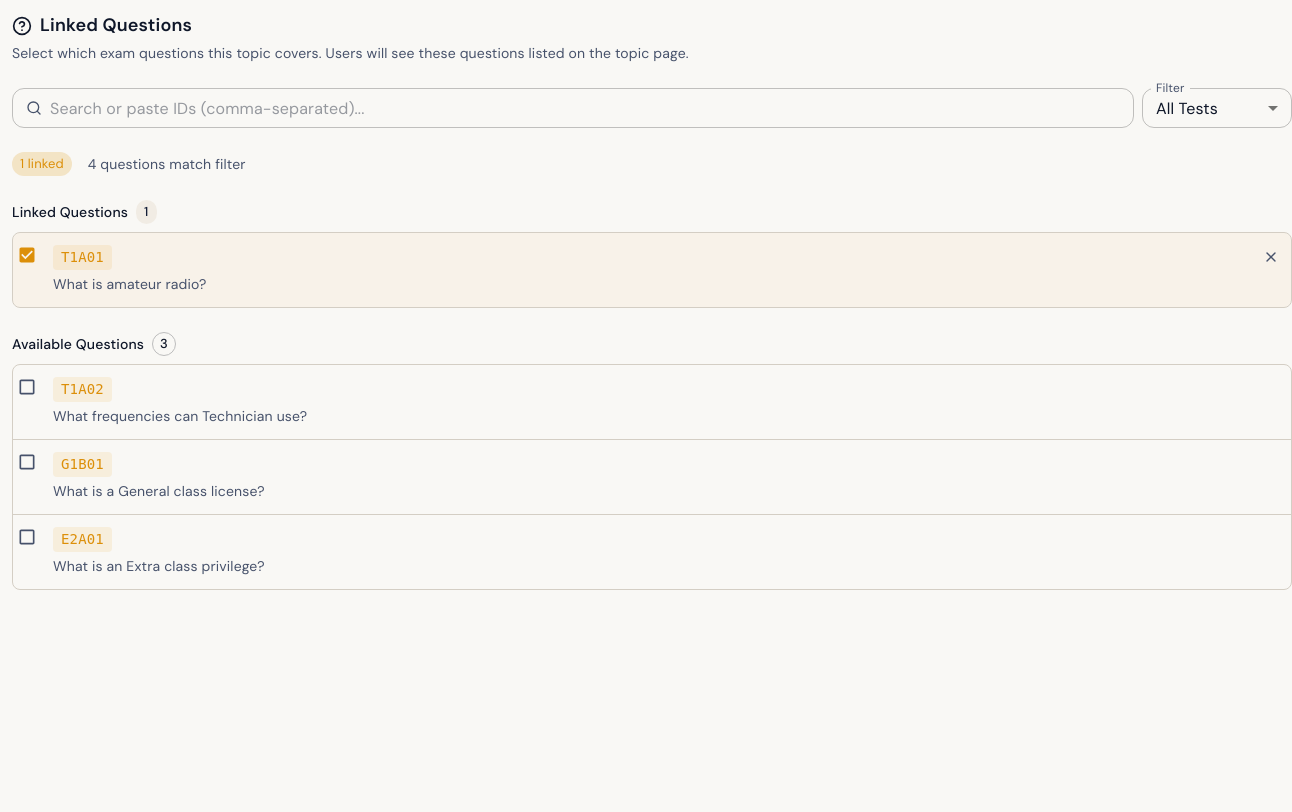
it: TopicQuestionManager › Test Type Filter › should filter to Extra questions only
Expected: the text "E2A01" is shown, [53,527,112,552]
MUI's Select opens on mousedown, which userEvent raises and fireEvent.click does not.
Click the dropdown named "filter": (1187, 108) [1156,98,1218,118]
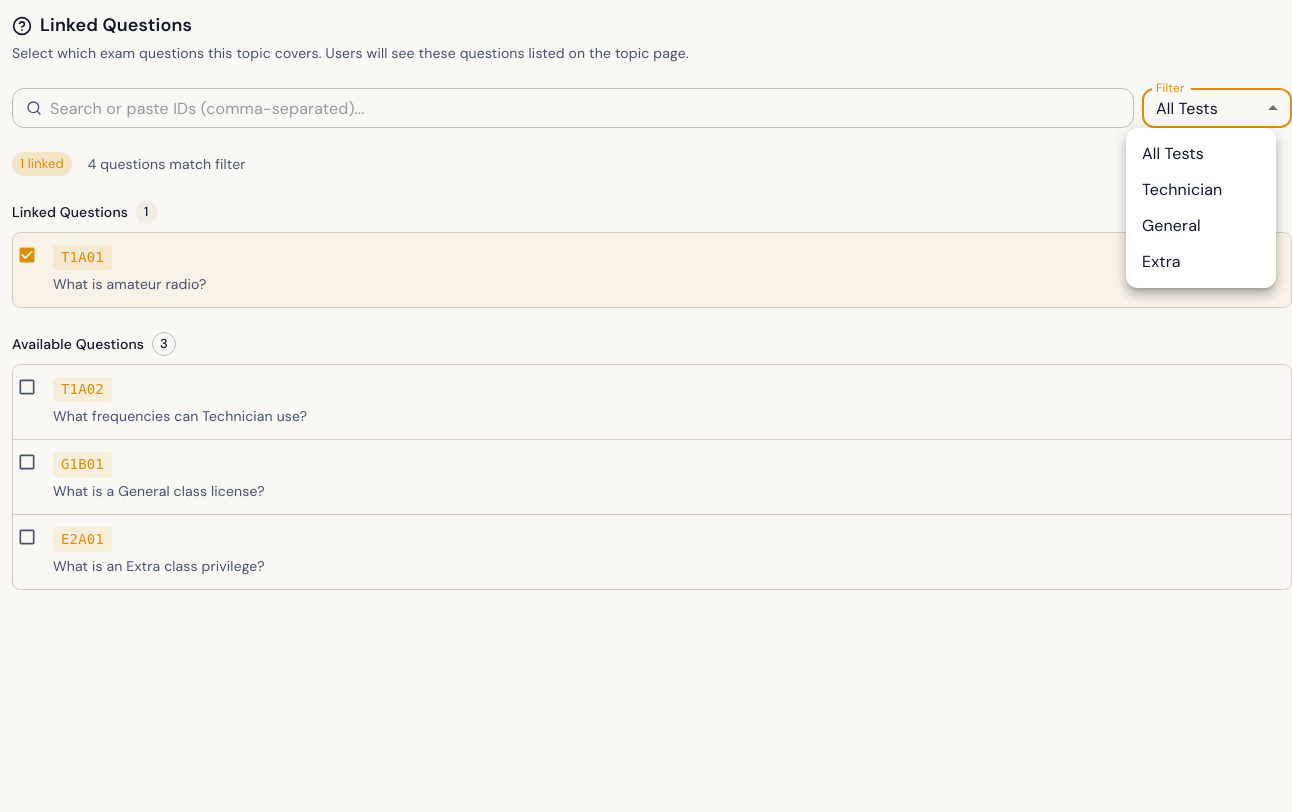
Click the option "Extra": (1161, 262) [1142,251,1181,272]
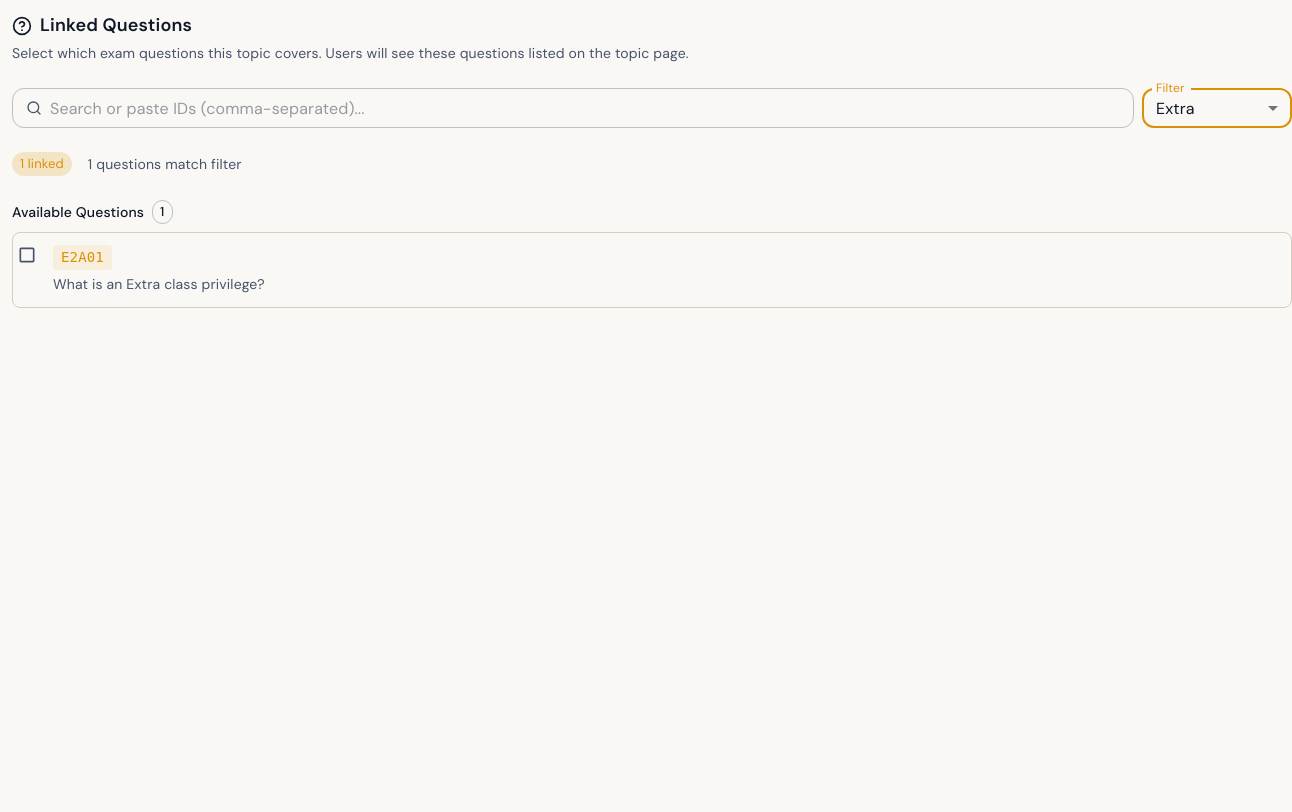
Expected: the text "E2A01" is shown, [53,245,112,270]
Expected: the button "T1A01" is gone
